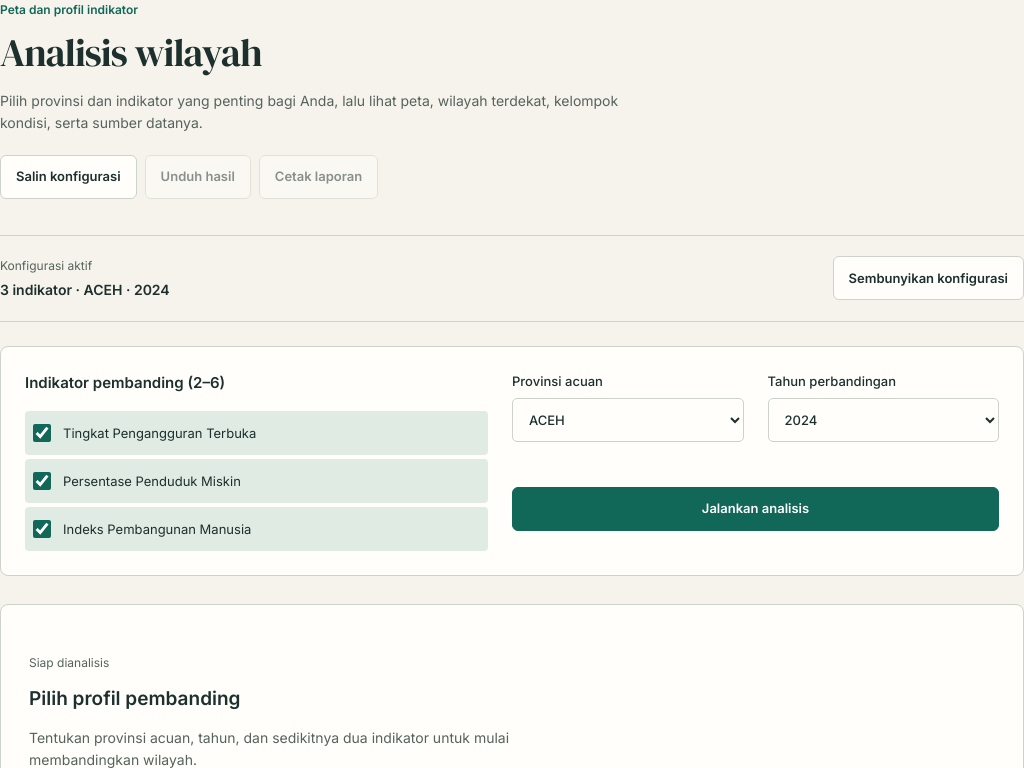
Test: RegionalAnalytics › does not expose memberships when validation is weak
The width and height of the screenshot is (1024, 768).
Click the button "Jalankan analisis".
click(756, 509)  # box [512,487,999,531]
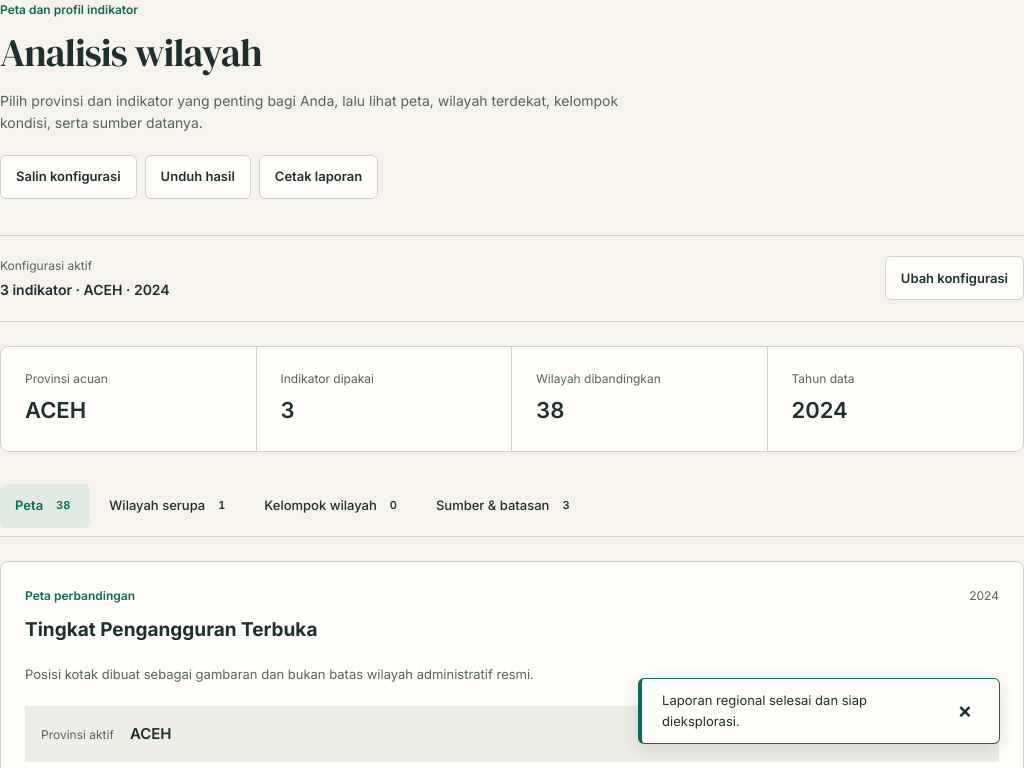
Click the tab "Kelompok wilayah 0".
click(333, 506)  # box [249,484,417,528]
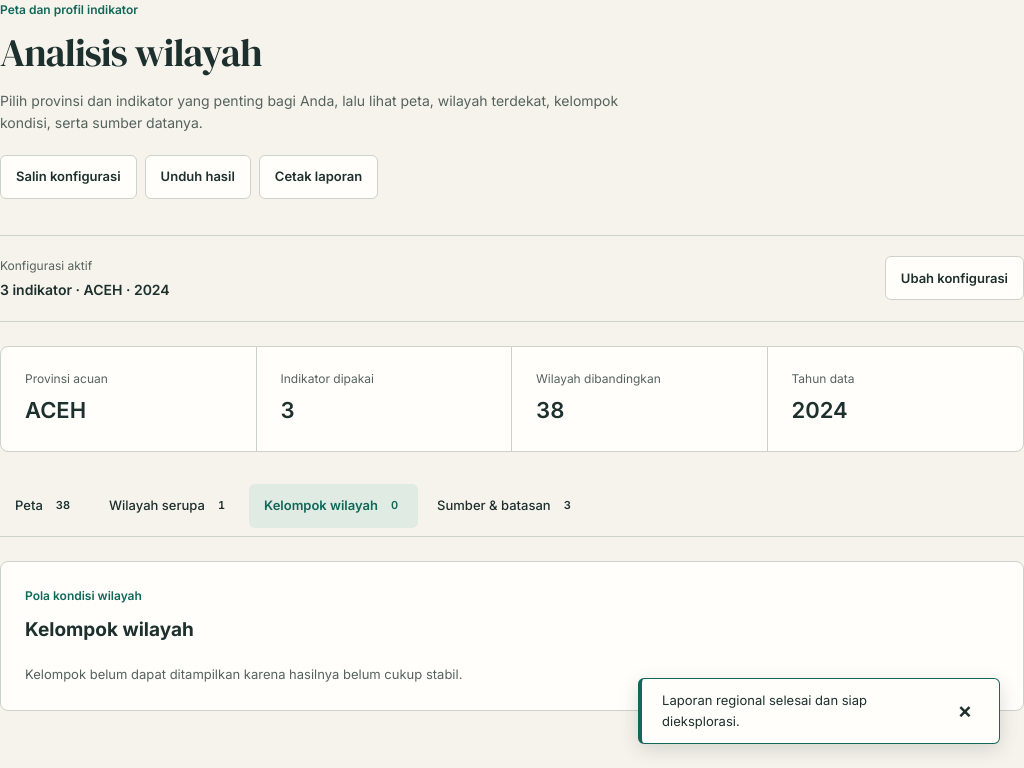
Check: the text "belum cukup stabil" is shown, box [25,666,462,682]
